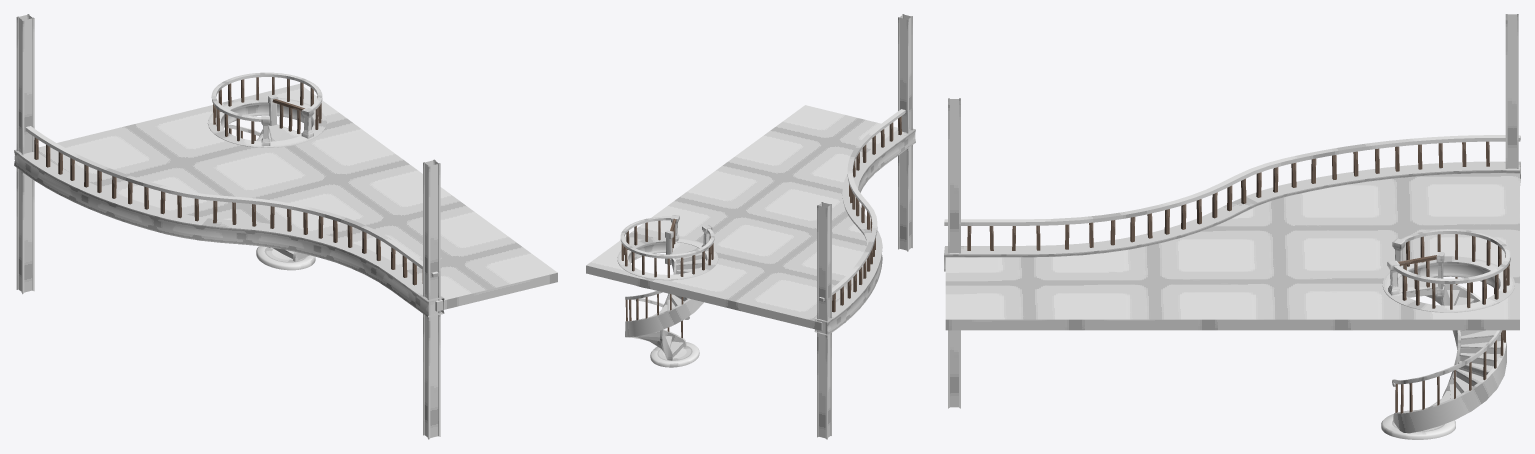
The model's file is SM_AlchemyS_Second_Floor.fbx.
3 views of the same model, side by side, from view 1: azimuth 30°, elevation 25°; view 2: azimuth 150°, elevation 25°; view 3: azimuth 270°, elevation 25° (orthographic). The views are drawn at different scales.
Visible parts, largest first — view 1: SM_AlchemyS_Second_Floor_LOD0; view 2: SM_AlchemyS_Second_Floor_LOD0; view 3: SM_AlchemyS_Second_Floor_LOD0.
Part boxes in pixels (x1,y1,x2,y2): SM_AlchemyS_Second_Floor_LOD0: (14,14,557,439); SM_AlchemyS_Second_Floor_LOD0: (586,14,915,439); SM_AlchemyS_Second_Floor_LOD0: (944,14,1520,439).
Bounding box in the file's own units: 998 × 1569 × 912.
